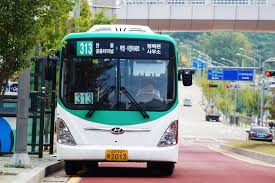bnum: (77, 40, 93, 56)
